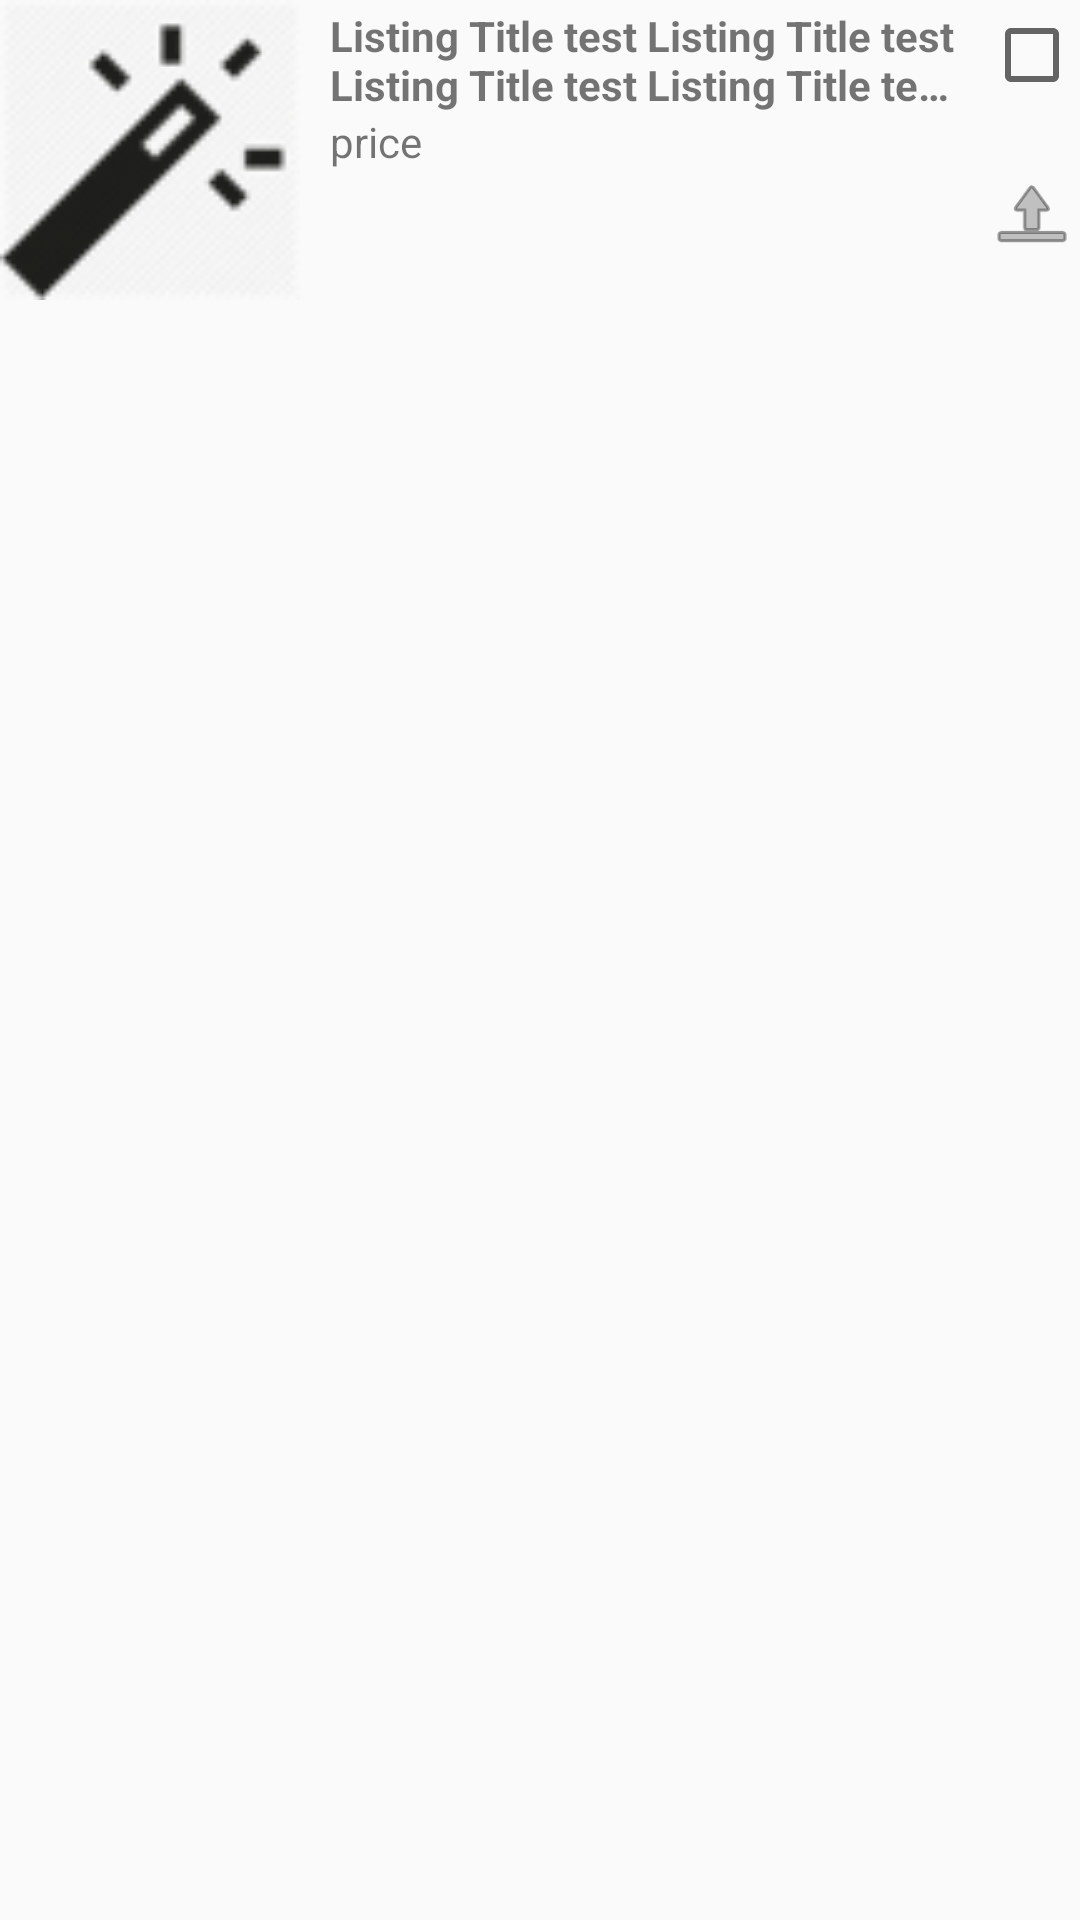

Named icons in this screenshot (1080w x 1920h) and their bounding boxes, [x1, y1, x2, y2]:
magic wand: [0, 23, 286, 300]
upload: [997, 185, 1067, 242]
